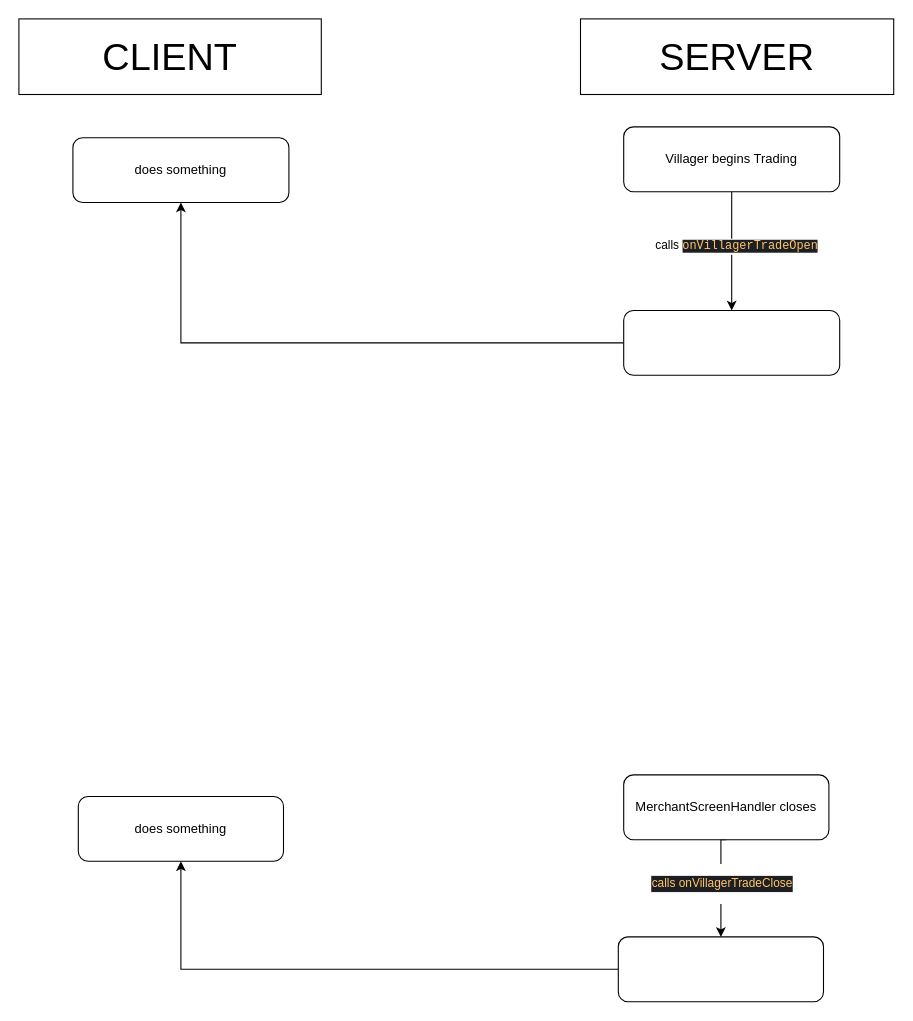
This 913x1021 diagram has some shape labels left out. Each missing label, with the centre of its shape:
"sends CloseChatUi packet" goes at point 720,969.
"sends OpenChatUI packet" goes at point 731,342.
